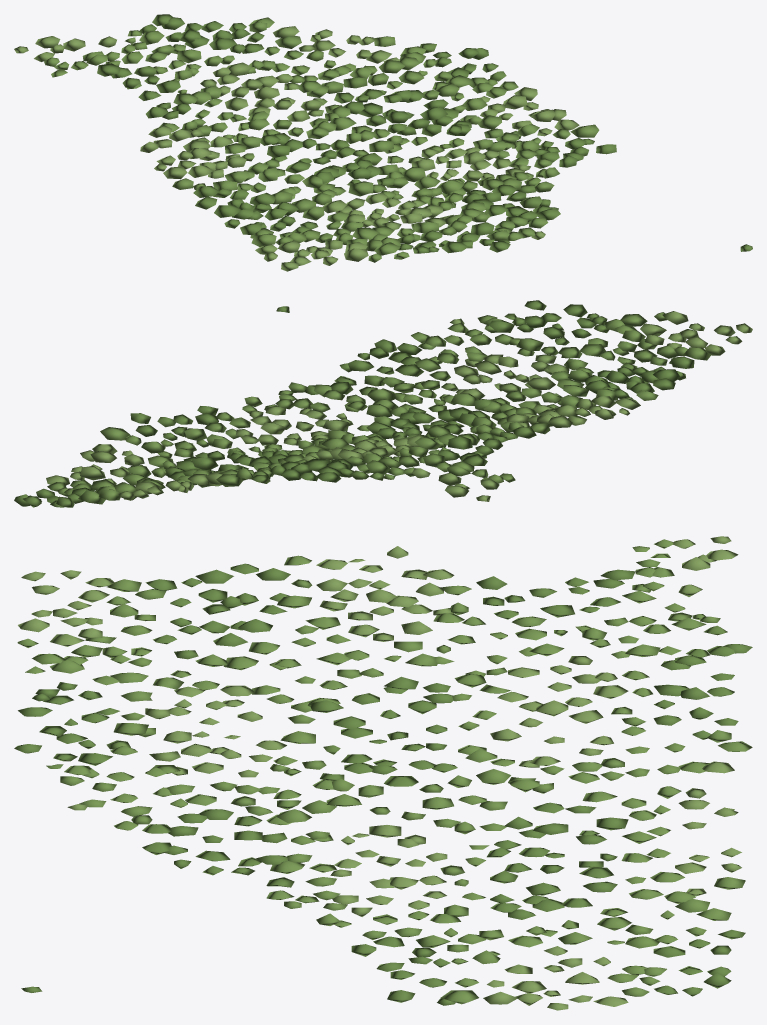
Rendered from canopy-1--2-5.glb.
The picture shows the model from 3 angles, top to bottom: view 1: azimuth 30°, elevation 25°; view 2: azimuth 150°, elevation 25°; view 3: azimuth 270°, elevation 25°; orthographic projection. The views are drawn at different scales.
Bounding box in the file's own units: 518 × 142 × 520.
Materials: 1 (1 with a texture image).
